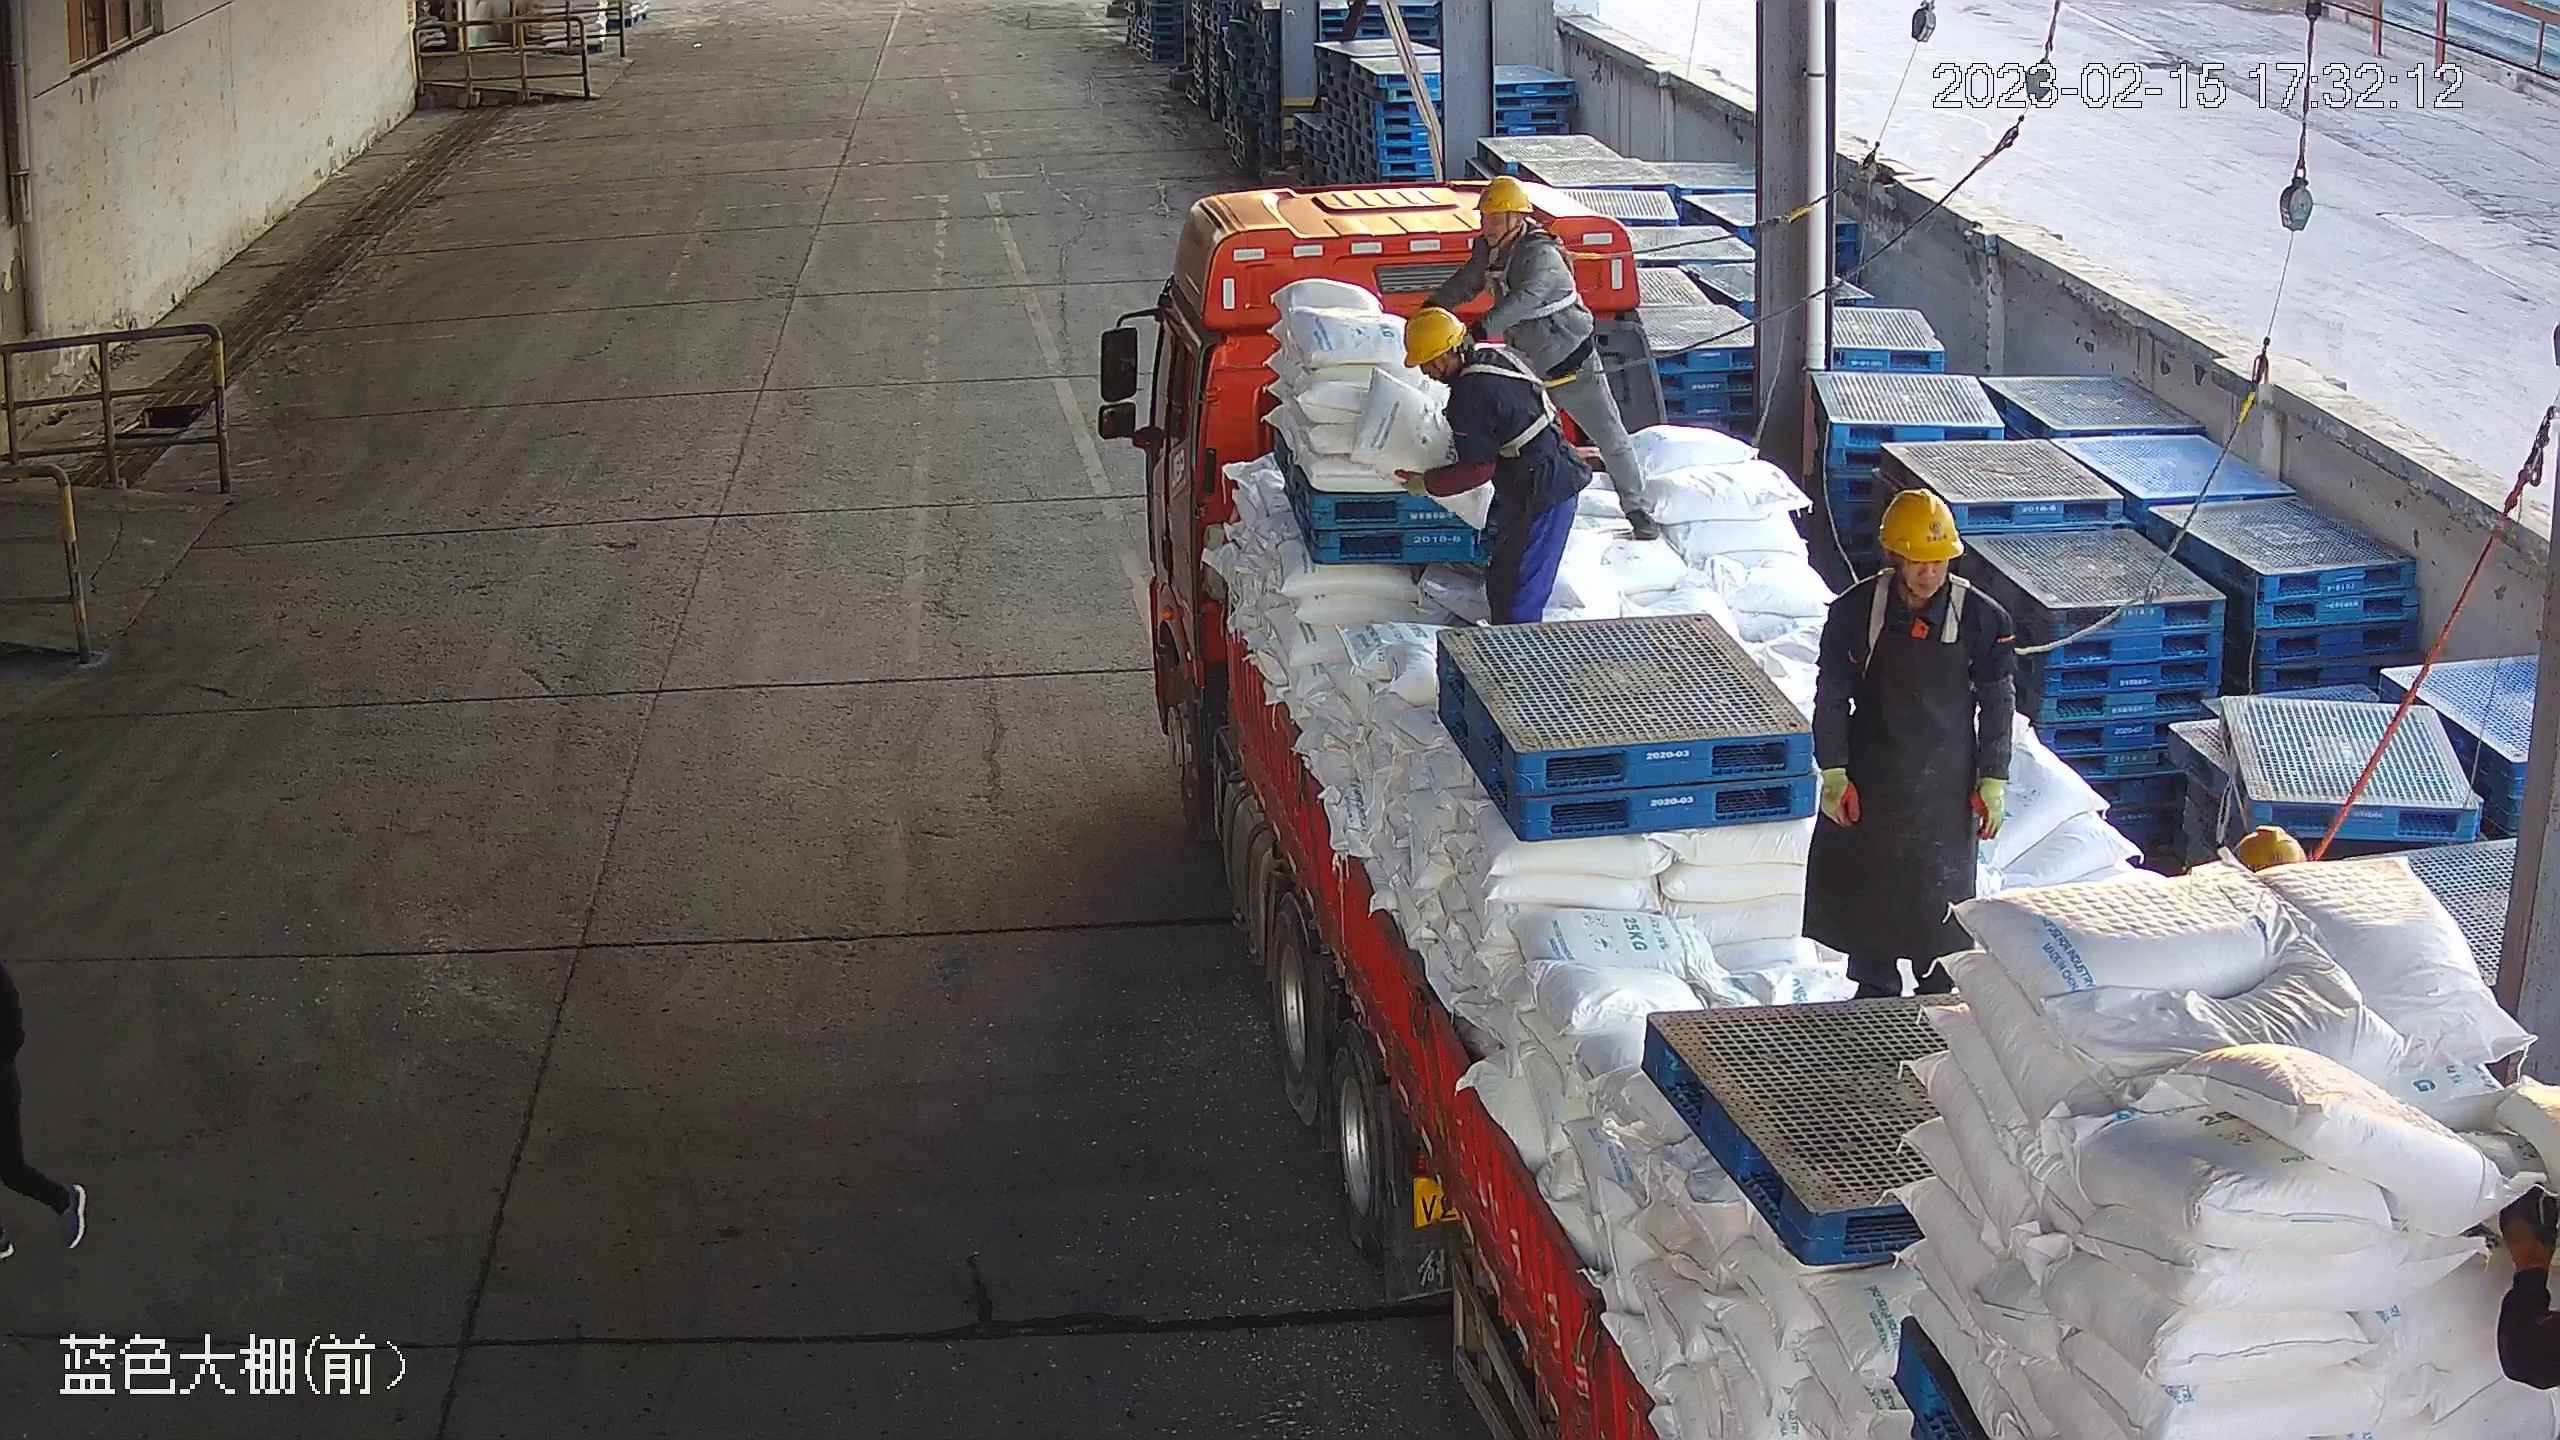belt: (1851, 561, 2063, 682), (1451, 340, 1576, 458), (1481, 230, 1601, 319)
head: (1821, 486, 2016, 653), (1401, 306, 1553, 409), (1468, 173, 1569, 264)
helmet: (1877, 487, 1966, 563), (1403, 306, 1468, 368), (1473, 174, 1534, 215)
people: (1799, 484, 2017, 1002), (1423, 174, 1663, 541), (1395, 305, 1595, 629)
truck: (1144, 171, 2558, 1439)
